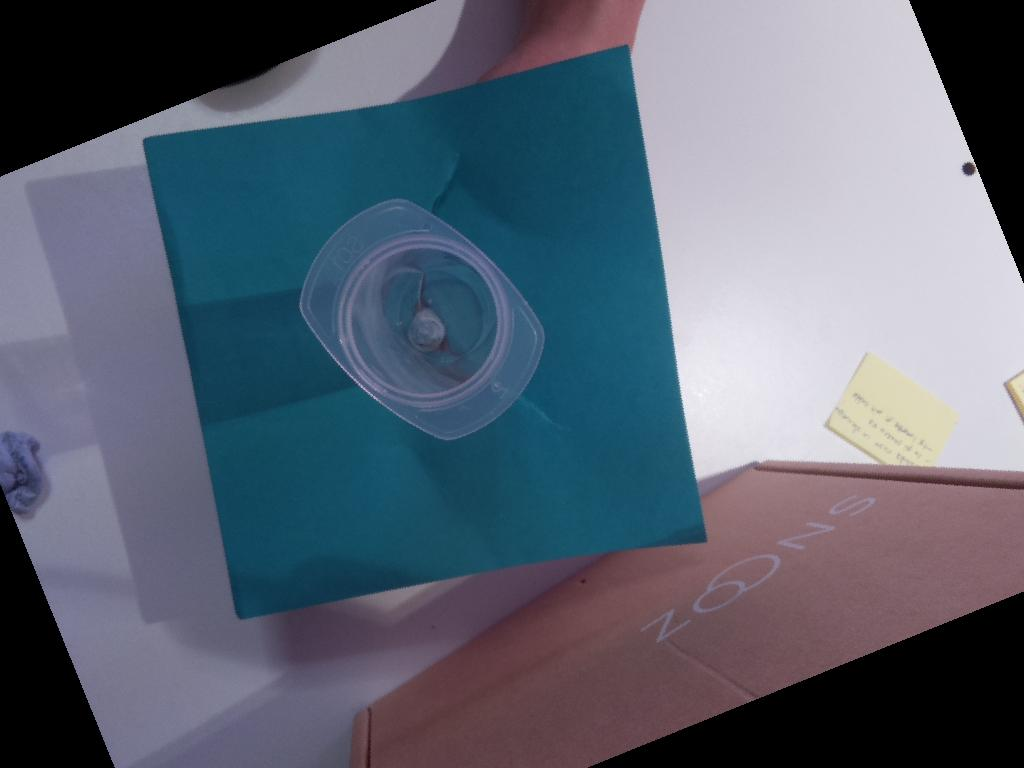clean: (290, 189, 550, 445)
